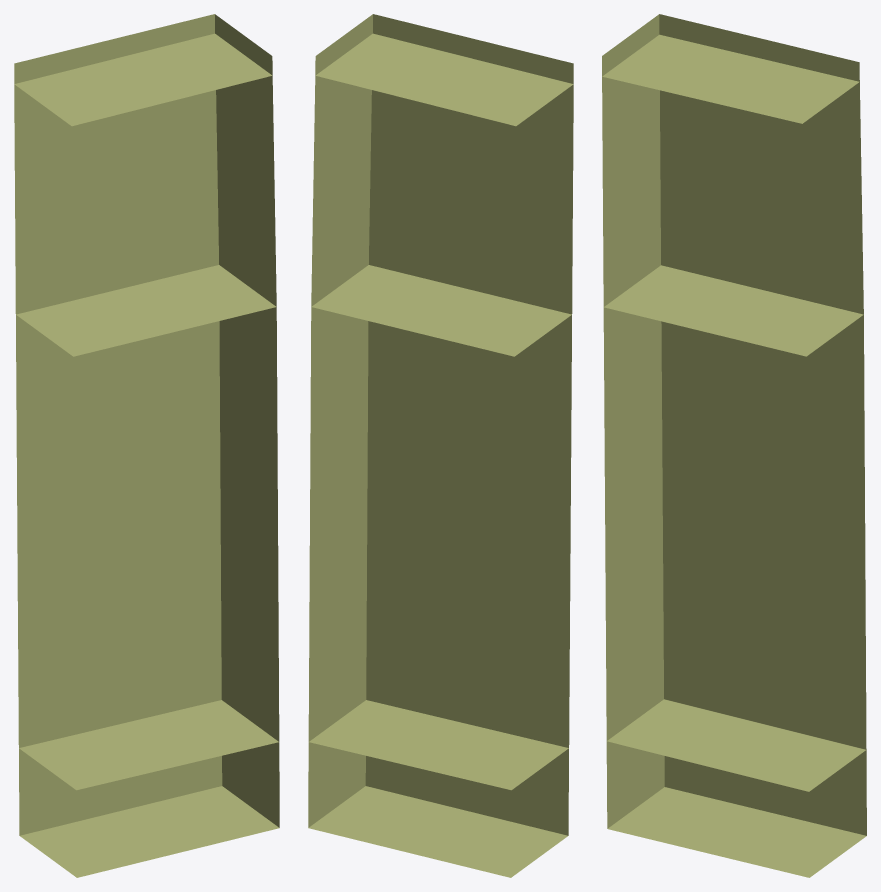
3 renders of one model, left to right at view 1: azimuth 30°, elevation 25°; view 2: azimuth 150°, elevation 25°; view 3: azimuth 330°, elevation 25°, orthographic.
Parts seen in each view (by area): view 1: 0_2_2_0_0_0_1_2_0; view 2: 0_2_2_0_0_0_1_2_0; view 3: 0_2_2_0_0_0_1_2_0.
Boxes of the visible parts, x1=… form: 0_2_2_0_0_0_1_2_0: x1=14, y1=14, x2=279, y2=877; 0_2_2_0_0_0_1_2_0: x1=308, y1=14, x2=573, y2=877; 0_2_2_0_0_0_1_2_0: x1=602, y1=14, x2=866, y2=877.
Size of the model in its own units: 12.52 by 44.51 by 6.
